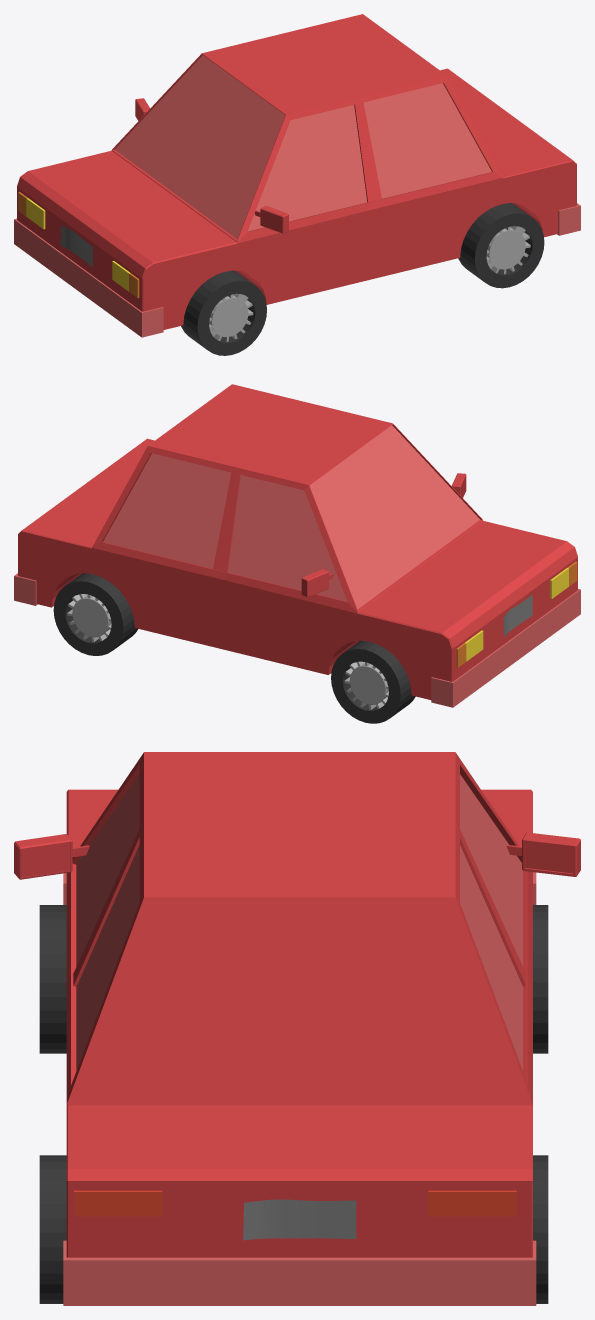
File: Car One Red.fbx
3 renders of one model, top to bottom at view 1: azimuth 30°, elevation 25°; view 2: azimuth 150°, elevation 25°; view 3: azimuth 270°, elevation 25°, orthographic. The views are drawn at different scales.
Visible parts, largest first — view 1: Car Body.001, Bumper.002, Tire.007, Tire.006, Spoke.007, Spoke.006, License Plate Front.003, Mirror Left.003, Back Bumper.001, Front Light.003, Light Front.003; view 2: Car Body.001, Bumper.002, Tire.005, Tire.004, Spoke.004, Spoke.005, Mirror Right.003, License Plate Front.003, Back Bumper.001, Front Light.003, Light Front.003; view 3: Car Body.001, Back Bumper.001, Plane.002, Tire.006, Tire.007, Mirror Left.003, Mirror Right.003, Back Light.005, Back Light.006, Tire.004, Tire.005.
Boxes of the visible parts, x1,y1,x2,y2 form: Car Body.001: [17, 14, 576, 329]; Bumper.002: [14, 218, 163, 337]; Tire.007: [458, 203, 544, 288]; Tire.006: [181, 270, 266, 355]; Spoke.007: [486, 226, 530, 274]; Spoke.006: [209, 293, 253, 341]; License Plate Front.003: [60, 225, 92, 266]; Mirror Left.003: [254, 205, 288, 233]; Back Bumper.001: [557, 203, 580, 235]; Front Light.003: [112, 261, 139, 298]; Light Front.003: [18, 192, 45, 229]; Car Body.001: [18, 384, 577, 699]; Bumper.002: [431, 589, 580, 707]; Tire.005: [53, 573, 137, 655]; Tire.004: [331, 640, 415, 723]; Spoke.004: [344, 661, 388, 709]; Spoke.005: [67, 594, 111, 642]; Mirror Right.003: [301, 569, 333, 597]; License Plate Front.003: [503, 595, 532, 637]; Back Bumper.001: [14, 573, 37, 605]; Front Light.003: [550, 561, 577, 598]; Light Front.003: [456, 630, 483, 667]; Car Body.001: [66, 752, 532, 1257]; Back Bumper.001: [63, 1240, 536, 1305]; Plane.002: [243, 1199, 356, 1240]; Tire.006: [39, 905, 66, 1053]; Tire.007: [39, 1155, 66, 1303]; Mirror Left.003: [14, 834, 89, 879]; Mirror Right.003: [506, 832, 580, 876]; Back Light.005: [428, 1190, 516, 1216]; Back Light.006: [74, 1190, 162, 1216]; Tire.004: [533, 905, 548, 1053]; Tire.005: [533, 1155, 548, 1303].
Size of the model in its own units: 357 by 154 by 215.
